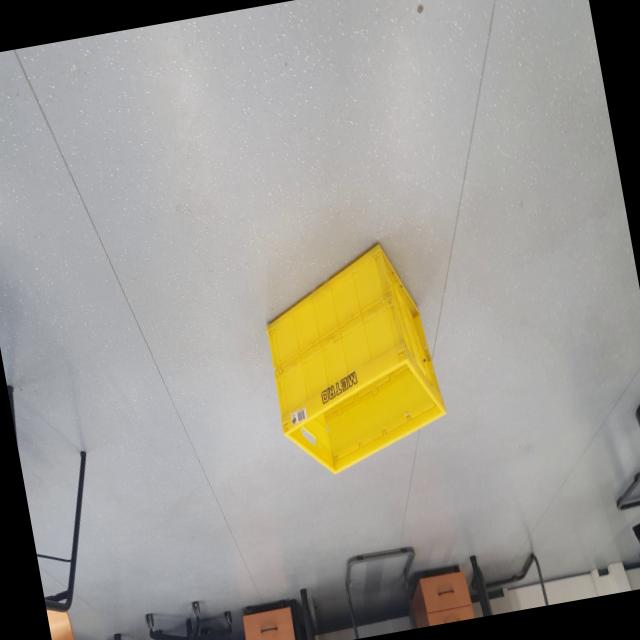box: (244, 229, 466, 490)
